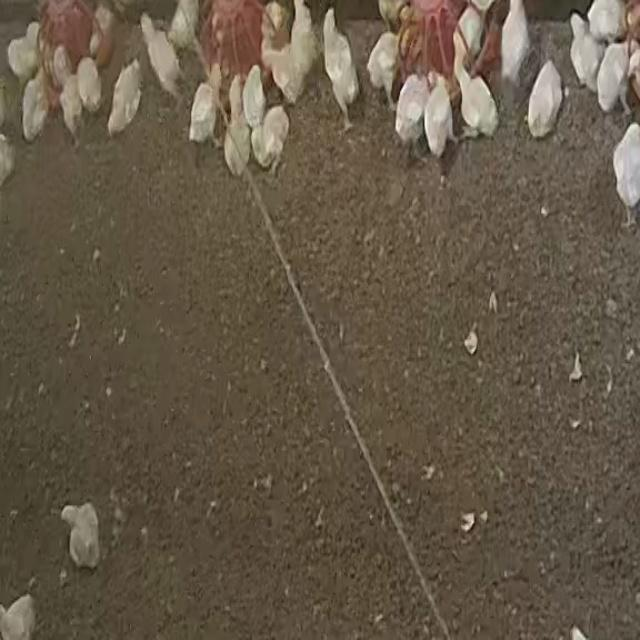chicken: (137, 13, 185, 102), (322, 4, 358, 116), (455, 54, 498, 140), (284, 0, 320, 99), (57, 495, 104, 570), (104, 61, 144, 137), (526, 59, 564, 138), (500, 0, 532, 91), (393, 72, 430, 148), (223, 78, 251, 177), (612, 120, 640, 212), (596, 39, 629, 114), (424, 76, 454, 158), (254, 104, 290, 171), (569, 13, 600, 89), (365, 31, 400, 98), (7, 21, 42, 84), (453, 2, 485, 69), (21, 74, 50, 143), (188, 81, 218, 145), (58, 70, 84, 140), (167, 0, 202, 52), (586, 0, 625, 43), (75, 54, 103, 112), (242, 63, 266, 130), (2, 593, 36, 639), (83, 5, 112, 58), (52, 44, 74, 92), (0, 133, 17, 191)
